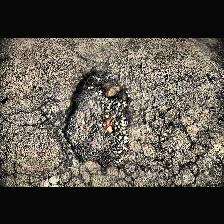pothole: (55, 66, 136, 168)
